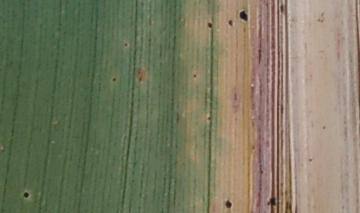tarspot: (236, 8, 253, 26), (222, 197, 235, 212), (267, 195, 279, 209), (205, 18, 215, 33), (21, 188, 33, 200), (225, 18, 234, 29)
